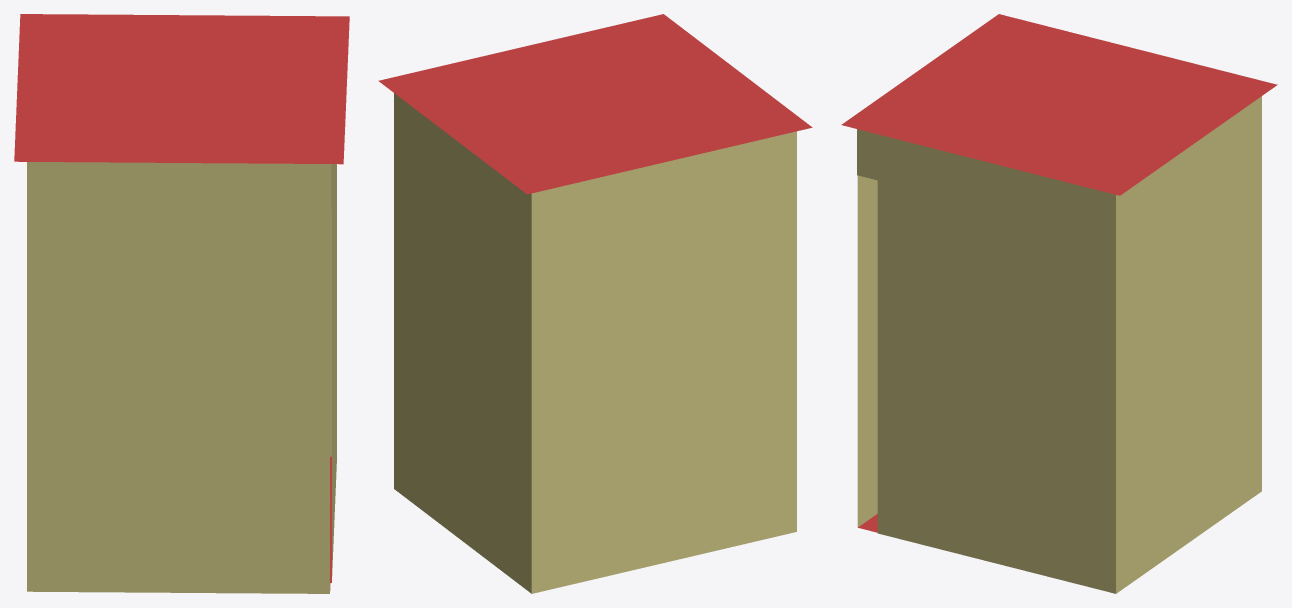
The picture shows the model from 3 angles, left to right: view 1: azimuth 30°, elevation 25°; view 2: azimuth 150°, elevation 25°; view 3: azimuth 270°, elevation 25°; orthographic projection. The views are drawn at different scales.
Bounding box in the file's own units: 9.32 × 9.46 × 9.67.
